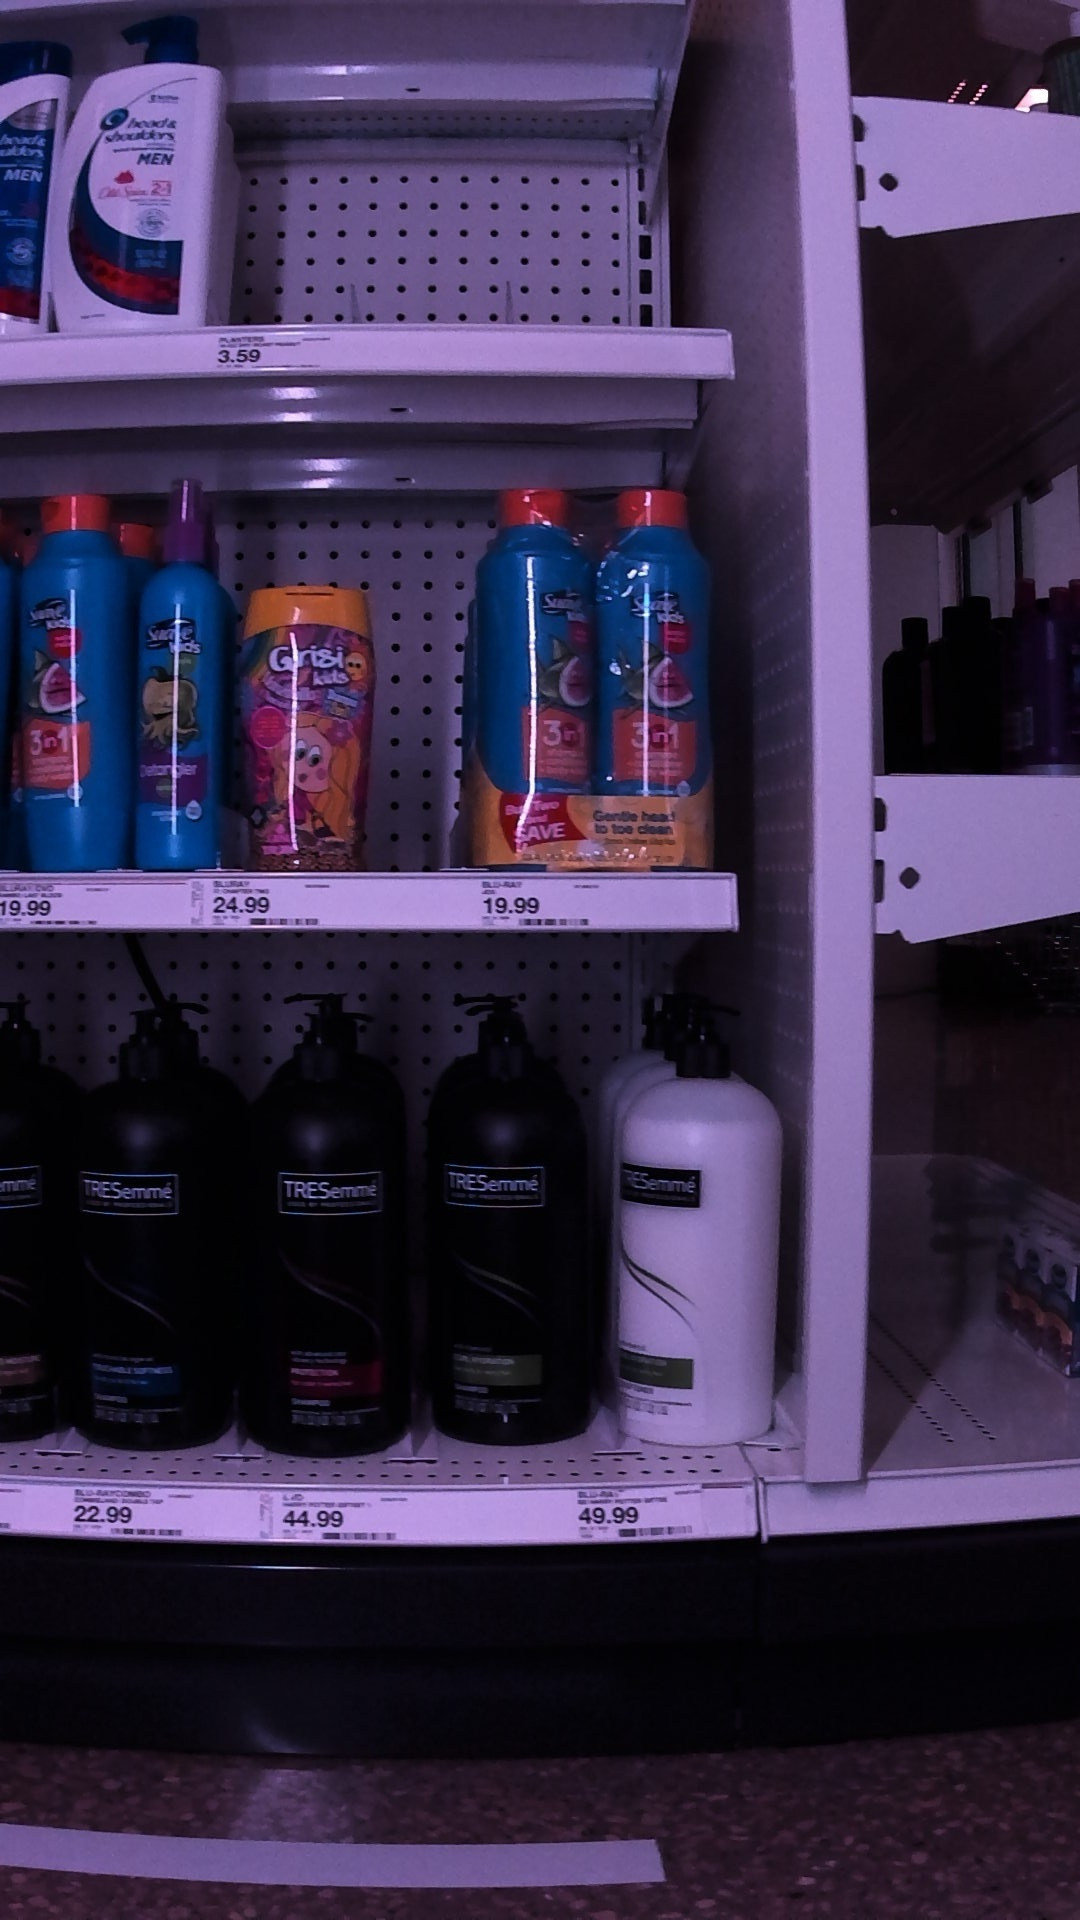ptag: (272, 1480, 402, 1553), (66, 1477, 206, 1545), (571, 1484, 711, 1544), (204, 873, 334, 935), (477, 877, 607, 926), (206, 328, 326, 375), (1, 884, 100, 927)
